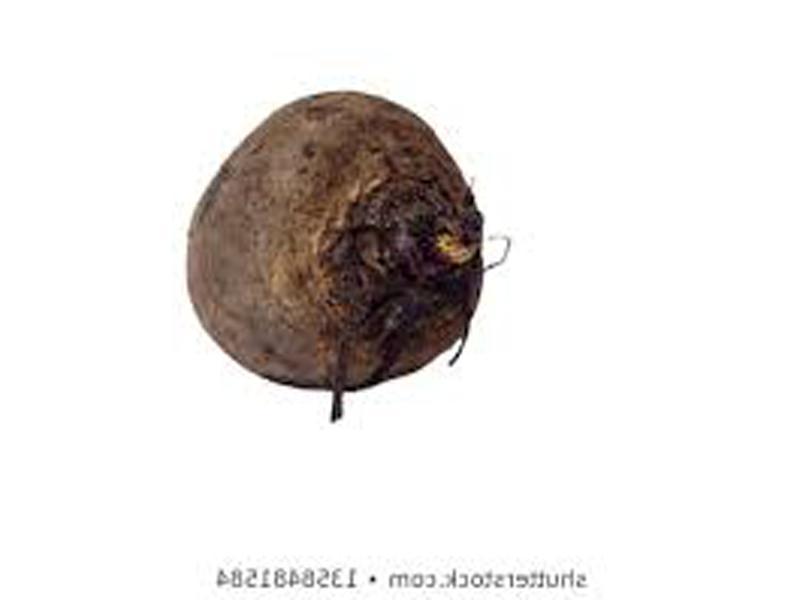Beet: (183, 92, 479, 388)
